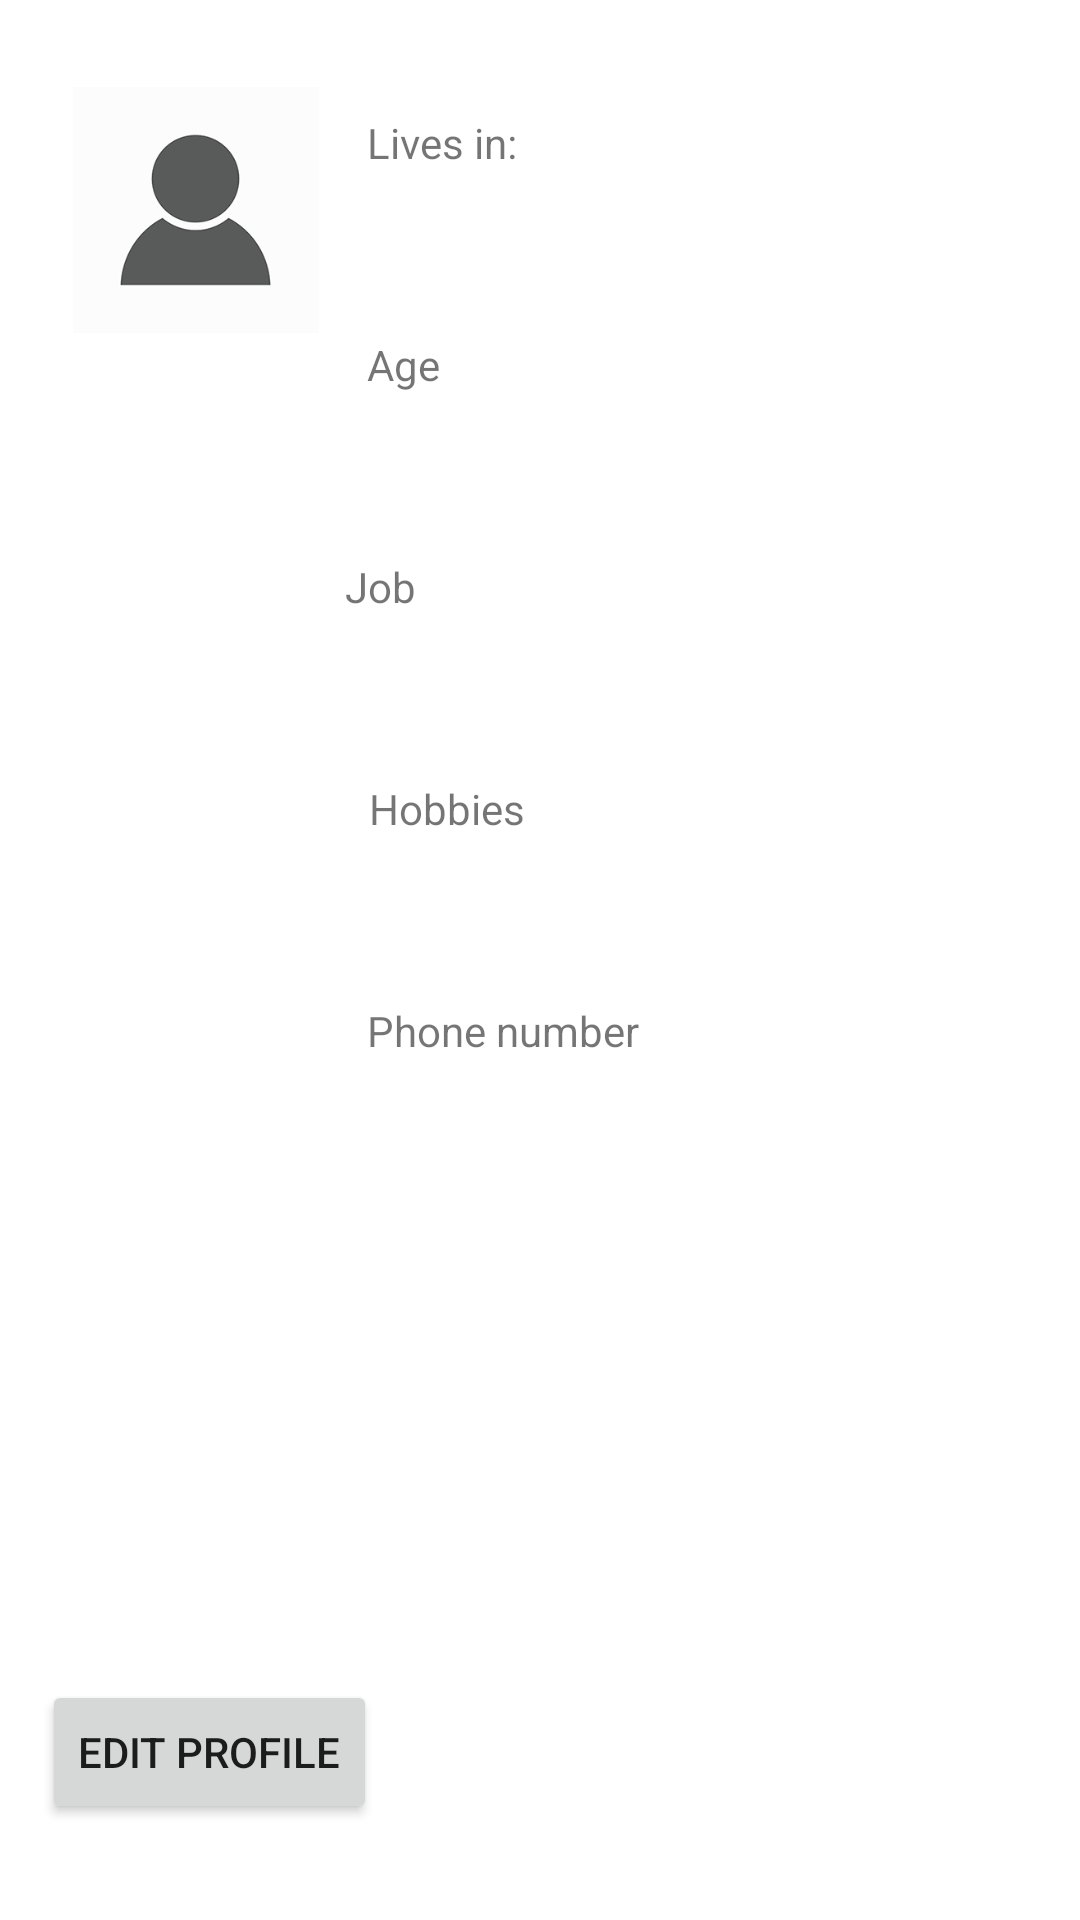

Icons on this 1080 × 1920 Android screen, each with its box as (x1, y1, x2, y2):
person: (120, 134, 271, 286)
